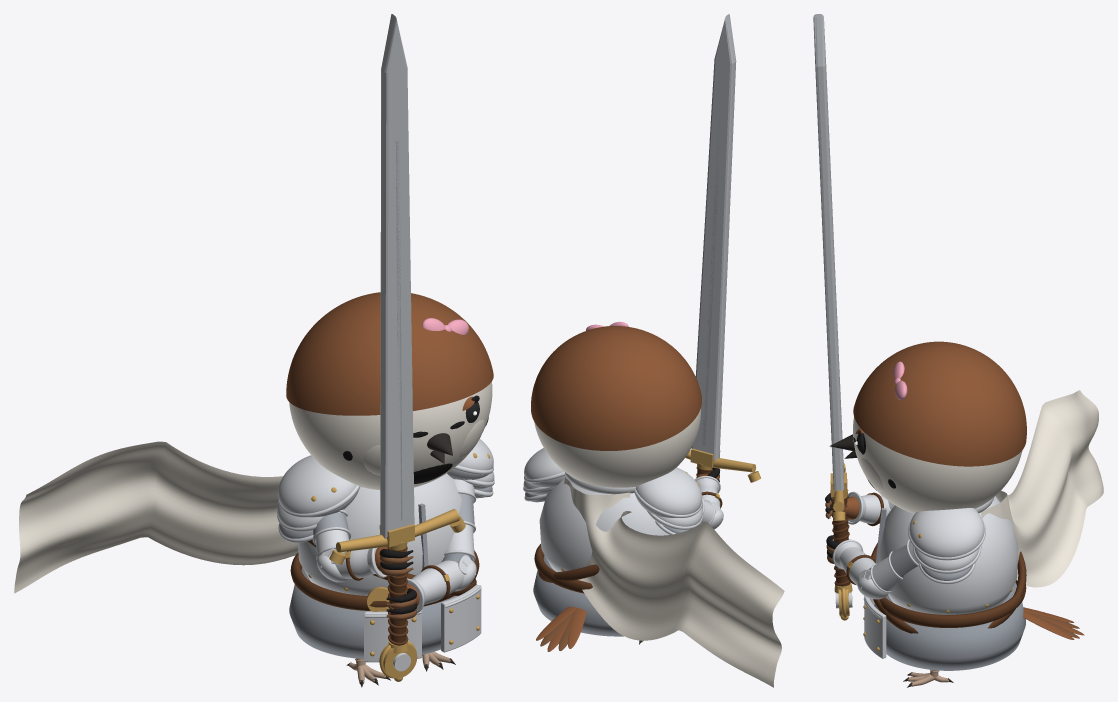
File: knight-birdie.glb
3 views of the same model, side by side, from view 1: azimuth 30°, elevation 25°; view 2: azimuth 150°, elevation 25°; view 3: azimuth 270°, elevation 25° (orthographic). The views are drawn at different scales.
Parts seen in each view (by area): view 1: Cape, Crown, Blade, Skull, Cuirass, Chainmail, Pauldron (×2), Tasset (×2), KnightBirdie, Armor, Belt, Vambrace (+2 smaller); view 2: Cape, Crown, Blade, Skull, Cuirass, Pauldron (×2), Chainmail, Armor, Fuller, Belt, KnightBirdie, Baldric (+3 smaller); view 3: Crown, Cape, Cuirass, Skull, Chainmail, Blade, Pauldron, KnightBirdie, Armor, Belt, Vambrace (×2), Tasset (+3 smaller).
Part boxes in pixels (x1,y1,x2,y2): Cape: (14,441,298,593); Crown: (286,292,493,415); Blade: (380,14,414,538); Skull: (289,381,492,490); Cuirass: (298,473,461,595); Chainmail: (289,567,476,658); Pauldron (×2): (278,439,493,517); Tasset (×2): (364,584,481,662); KnightBirdie: (312,479,476,613); Armor: (277,453,494,683); Belt: (290,550,479,610); Vambrace: (411,560,464,604); Cape: (564,477,784,687); Crown: (531,326,701,450); Blade: (691,14,736,460); Skull: (534,408,700,487); Cuirass: (539,477,669,572); Pauldron (×2): (524,448,702,517); Chainmail: (533,556,623,636); Armor: (523,471,702,641); Fuller: (702,121,719,445); Belt: (534,544,592,593); KnightBirdie: (694,474,722,524); Baldric: (538,564,599,582); Crown: (853,341,1026,466); Cape: (980,390,1103,587); Cuirass: (879,496,1018,614); Skull: (853,417,1022,513); Chainmail: (874,582,1025,670); Blade: (813,14,844,491); Pauldron: (909,508,984,557); KnightBirdie: (832,491,918,592); Armor: (863,508,1012,686); Belt: (879,580,1026,627); Vambrace (×2): (839,494,889,585); Tasset: (864,596,886,658).
Bounding box in the file's own units: 0.048 × 0.0843 × 0.0355.
